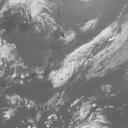cyclone: (51, 60, 74, 86)
